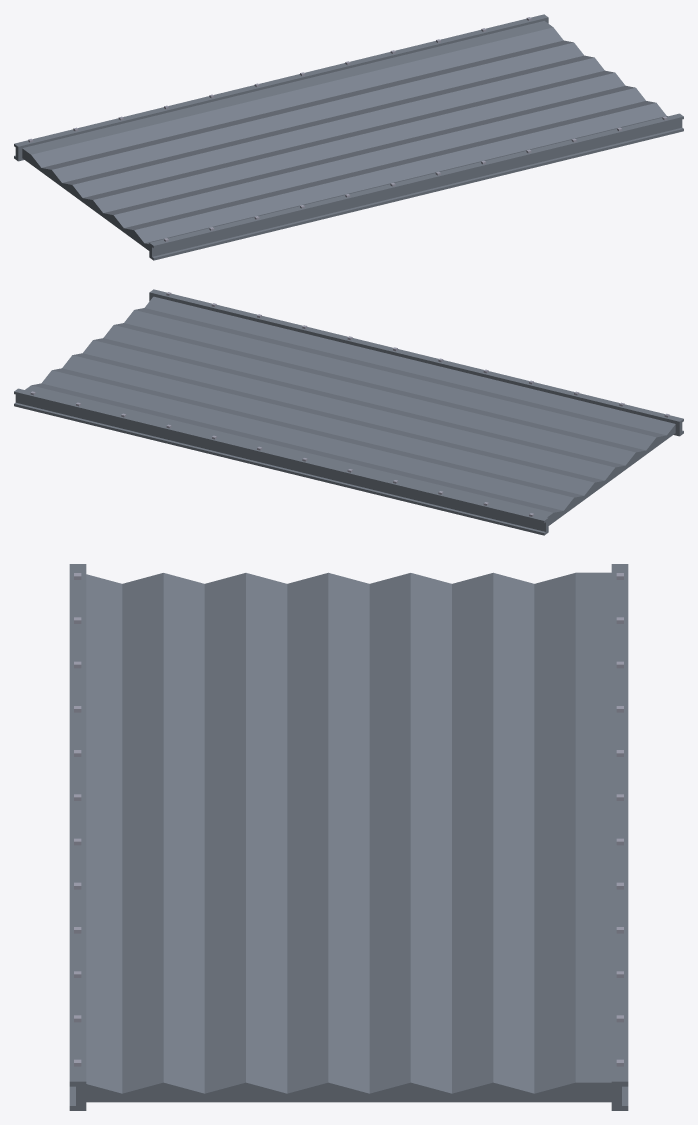
File: Board01_003.fbx
The picture shows the model from 3 angles, top to bottom: view 1: azimuth 30°, elevation 25°; view 2: azimuth 150°, elevation 25°; view 3: azimuth 270°, elevation 25°; orthographic projection. The views are drawn at different scales.
Visible parts, largest first — view 1: Board01.003; view 2: Board01.003; view 3: Board01.003.
Part boxes in pixels (x1=…): Board01.003: x1=14, y1=14, x2=683, y2=260; Board01.003: x1=14, y1=289, x2=683, y2=535; Board01.003: x1=69, y1=564, x2=628, y2=1110.
Size of the model in its own units: 2.03 by 0.0604 by 0.9266.
